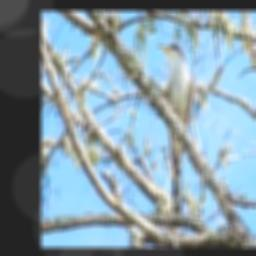Cuckoo: (159, 43, 194, 218)
